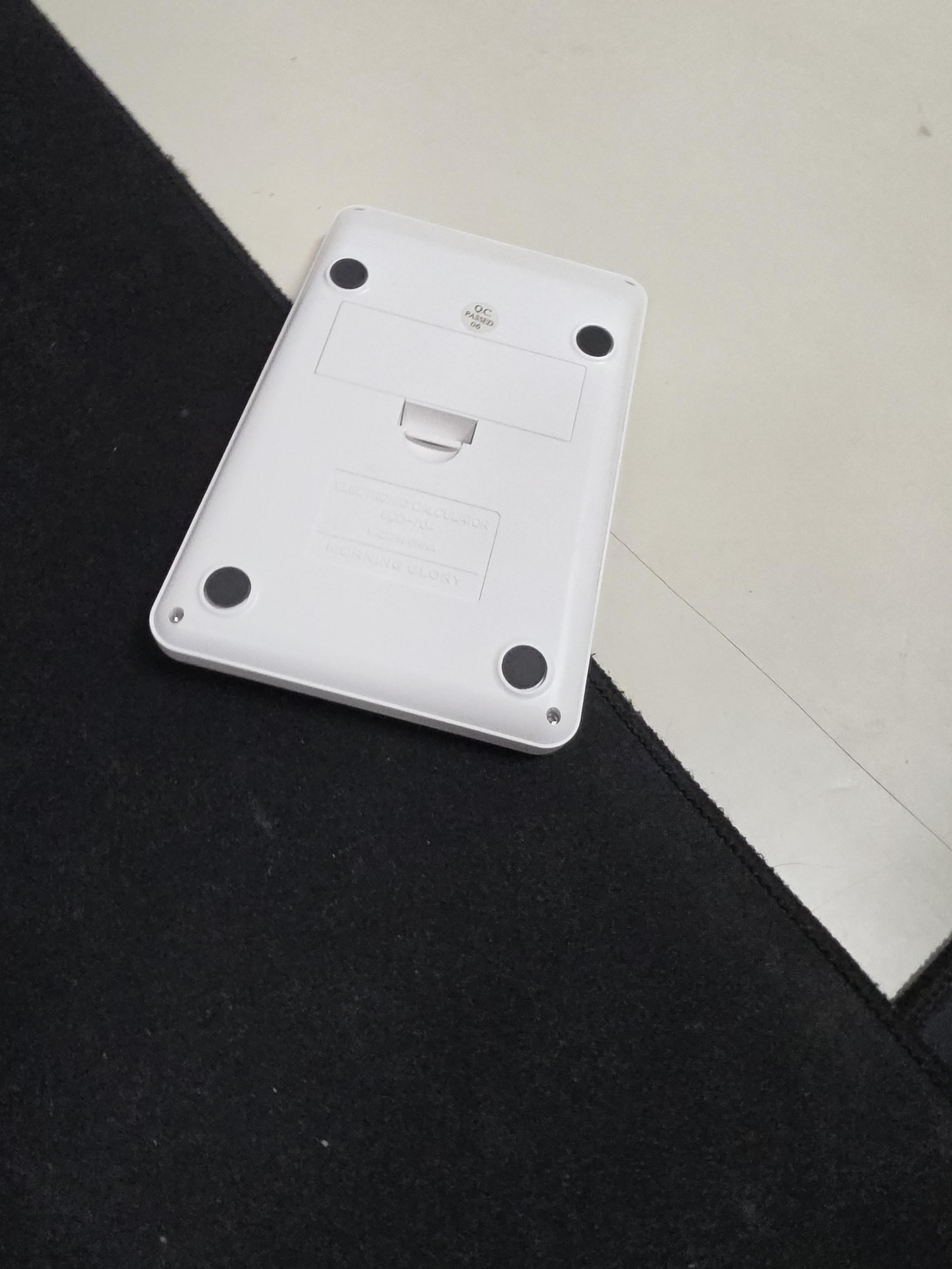calculator: (148, 205, 647, 755)
